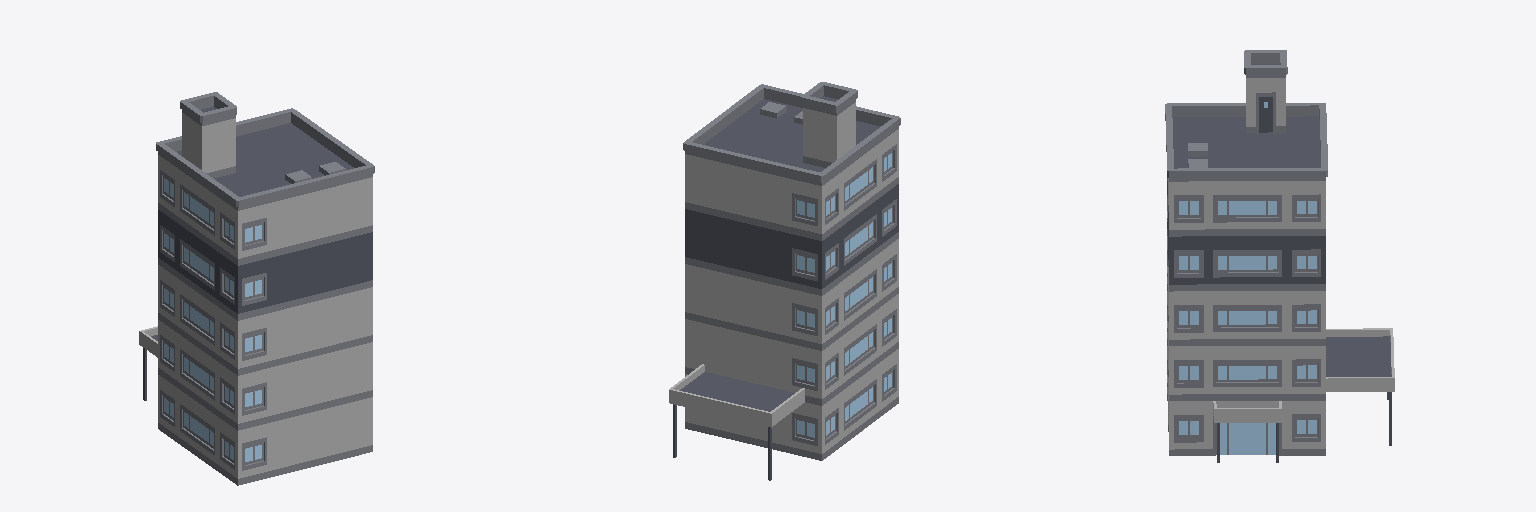
Rendered from buildingM1.obj.
3 views of the same model, side by side, from view 1: azimuth 30°, elevation 25°; view 2: azimuth 150°, elevation 25°; view 3: azimuth 270°, elevation 25° (orthographic).
Visible parts, largest first — view 1: large_buildingG; view 2: large_buildingG; view 3: large_buildingG.
Boxes of the visible parts, <box> form: large_buildingG: <box>139,92,374,485</box>; large_buildingG: <box>669,82,900,480</box>; large_buildingG: <box>1165,50,1394,462</box>.
Bounding box in the file's own units: 0.9351 × 1.95 × 1.19.